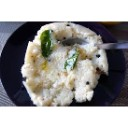venpongal: (25, 24, 104, 105)
